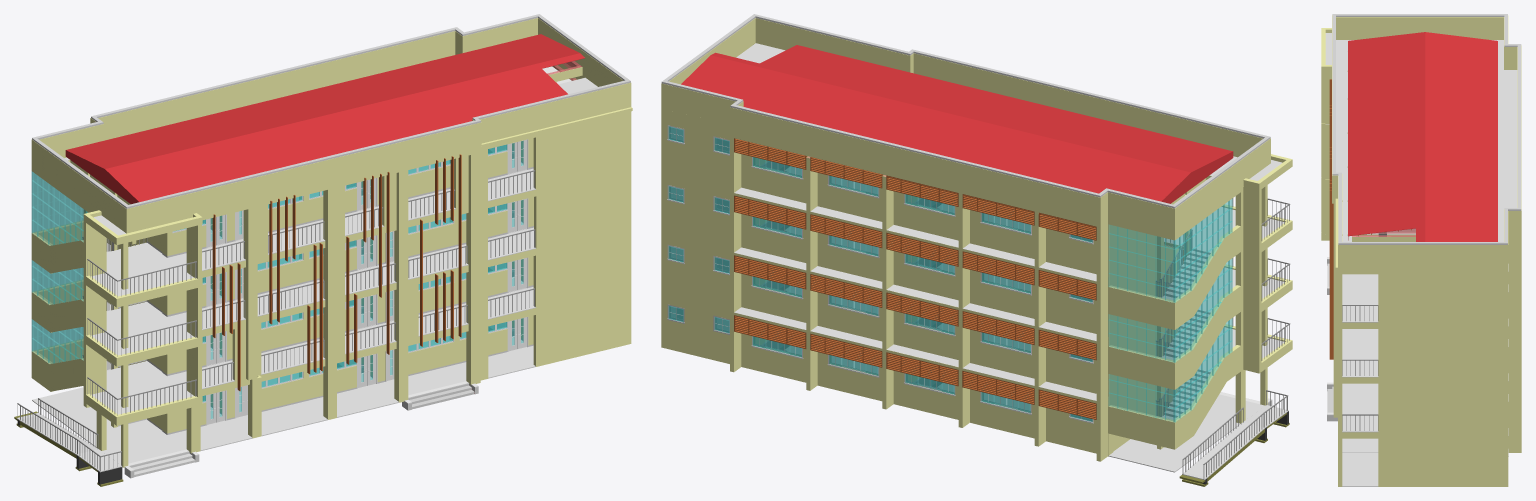
The model's file is THPTTT_Architecture.fbx.
The picture shows the model from 3 angles, left to right: view 1: azimuth 30°, elevation 25°; view 2: azimuth 150°, elevation 25°; view 3: azimuth 270°, elevation 25°; orthographic projection. The views are drawn at different scales.
Visible parts, largest first — view 1: Basic Roof Mái tôn [1554601], Basic Wall IICM-A-W-TRAT TUONG (15) [1322748], Floor IICM-A-AFL-SANPHONG [608147], Basic Wall IICM-A-W-TRAT TUONG (15) [1531627], Generic Models 17 Generic Models 17 [1695679], Railing 1100mm [1349379]_[1501473].005, Basic Wall IICM-A-W-TRAT TUONG (15) [1535820], Floor IICM-A-AFL-SANHANHLANG [1455754], Floor IICM-A-AFL-SANHANHLANG [613868], Floor IICM-A-AFL-SANHANHLANG [1463537], System Panel Glazed [1693146], Structural Framing 1 Structural Framing 1 [1551338] (+41 smaller); view 2: Basic Roof Mái tôn [1554601], Rectangular Mullion Louver nhôm [1518295], System Panel Glazed [1693146], Basic Wall IICM-A-W-TRAT TUONG (15) [1533390], Basic Wall IICM-A-W-TRAT TUONG (15) [1528647], Basic Wall IICM-A-CL-TRAT COT(15) [408575], Structural Framing 1 Structural Framing 1 [1551338], Railing 1100mm [1349379]_[1501473].005, Floor IICM-A-AFL-SANPHONG [608147], Basic Wall IICM-A-W-TRAT TUONG (15) [1534908], Basic Wall IICM-A-W-TRAT TUONG (15) [1464370], Basic Wall IICM-A-W-TRAT TUONG (15) [1456634] (+56 smaller); view 3: Basic Roof Mái tôn [1554601], Floor IICM-A-AFL-SANTANG MÁI [1683055], Basic Wall IICM-A-W-TRAT TUONG (15) [1380523], Basic Wall IICM-A-W-TRAT TUONG (15) [1456635], Basic Wall IICM-A-W-TRAT TUONG (15) [1464371], Basic Wall IICM-A-CL-TRAT(15) TƯỜNG NGOÀI [1285888], Basic Wall IICM-A-CL-TRAT COT(15) [408575], Basic Wall IICM-A-W-TRAT TUONG (15) [1532693], Basic Wall IICM-A-W-TRAT TUONG (15) [1527082], Structural Framing 1 Structural Framing 1 [1551338], Basic Wall IICM-A-W-TRAT TUONG (15) [1322748], Basic Wall IICM-A-SFr-TRAT DAM (15) [1456636] (+26 smaller).
Part boxes in pixels (bbox=[...]): Basic Roof Mái tôn [1554601]: bbox=[66, 34, 584, 201]; Basic Wall IICM-A-W-TRAT TUONG (15) [1322748]: bbox=[121, 111, 631, 467]; Floor IICM-A-AFL-SANPHONG [608147]: bbox=[32, 345, 535, 464]; Basic Wall IICM-A-W-TRAT TUONG (15) [1531627]: bbox=[127, 122, 481, 233]; Generic Models 17 Generic Models 17 [1695679]: bbox=[212, 154, 461, 391]; Railing 1100mm [1349379]_[1501473].005: bbox=[17, 170, 535, 471]; Basic Wall IICM-A-W-TRAT TUONG (15) [1535820]: bbox=[98, 31, 455, 140]; Floor IICM-A-AFL-SANHANHLANG [1455754]: bbox=[91, 227, 535, 355]; Floor IICM-A-AFL-SANHANHLANG [613868]: bbox=[91, 287, 536, 414]; Floor IICM-A-AFL-SANHANHLANG [1463537]: bbox=[91, 168, 536, 296]; System Panel Glazed [1693146]: bbox=[31, 171, 87, 363]; Structural Framing 1 Structural Framing 1 [1551338]: bbox=[32, 14, 630, 208]; Basic Roof Mái tôn [1554601]: bbox=[681, 45, 1232, 201]; Rectangular Mullion Louver nhôm [1518295]: bbox=[734, 138, 1096, 419]; System Panel Glazed [1693146]: bbox=[1108, 198, 1232, 422]; Basic Wall IICM-A-W-TRAT TUONG (15) [1533390]: bbox=[730, 107, 1100, 222]; Basic Wall IICM-A-W-TRAT TUONG (15) [1528647]: bbox=[913, 53, 1262, 157]; Basic Wall IICM-A-CL-TRAT COT(15) [408575]: bbox=[661, 108, 1245, 456]; Structural Framing 1 Structural Framing 1 [1551338]: bbox=[661, 14, 1270, 208]; Railing 1100mm [1349379]_[1501473].005: bbox=[1156, 198, 1290, 478]; Floor IICM-A-AFL-SANPHONG [608147]: bbox=[1108, 394, 1264, 472]; Basic Wall IICM-A-W-TRAT TUONG (15) [1534908]: bbox=[755, 18, 910, 72]; Basic Wall IICM-A-W-TRAT TUONG (15) [1464370]: bbox=[666, 116, 729, 184]; Basic Wall IICM-A-W-TRAT TUONG (15) [1456634]: bbox=[666, 176, 729, 244]; Basic Roof Mái tôn [1554601]: bbox=[1348, 32, 1497, 241]; Floor IICM-A-AFL-SANTANG MÁI [1683055]: bbox=[1336, 40, 1517, 241]; Basic Wall IICM-A-W-TRAT TUONG (15) [1380523]: bbox=[1387, 388, 1499, 432]; Basic Wall IICM-A-W-TRAT TUONG (15) [1456635]: bbox=[1387, 333, 1499, 377]; Basic Wall IICM-A-W-TRAT TUONG (15) [1464371]: bbox=[1387, 278, 1499, 322]; Basic Wall IICM-A-CL-TRAT(15) TƯỜNG NGOÀI [1285888]: bbox=[1387, 443, 1499, 486]; Basic Wall IICM-A-CL-TRAT COT(15) [408575]: bbox=[1378, 235, 1508, 486]; Basic Wall IICM-A-W-TRAT TUONG (15) [1532693]: bbox=[1338, 245, 1508, 267]; Basic Wall IICM-A-W-TRAT TUONG (15) [1527082]: bbox=[1336, 17, 1503, 39]; Structural Framing 1 Structural Framing 1 [1551338]: bbox=[1332, 14, 1521, 244]; Basic Wall IICM-A-W-TRAT TUONG (15) [1322748]: bbox=[1333, 203, 1342, 486]; Basic Wall IICM-A-SFr-TRAT DAM (15) [1456636]: bbox=[1387, 322, 1499, 333].
Size of the model in its own units: 3378 by 1685 by 1193.
